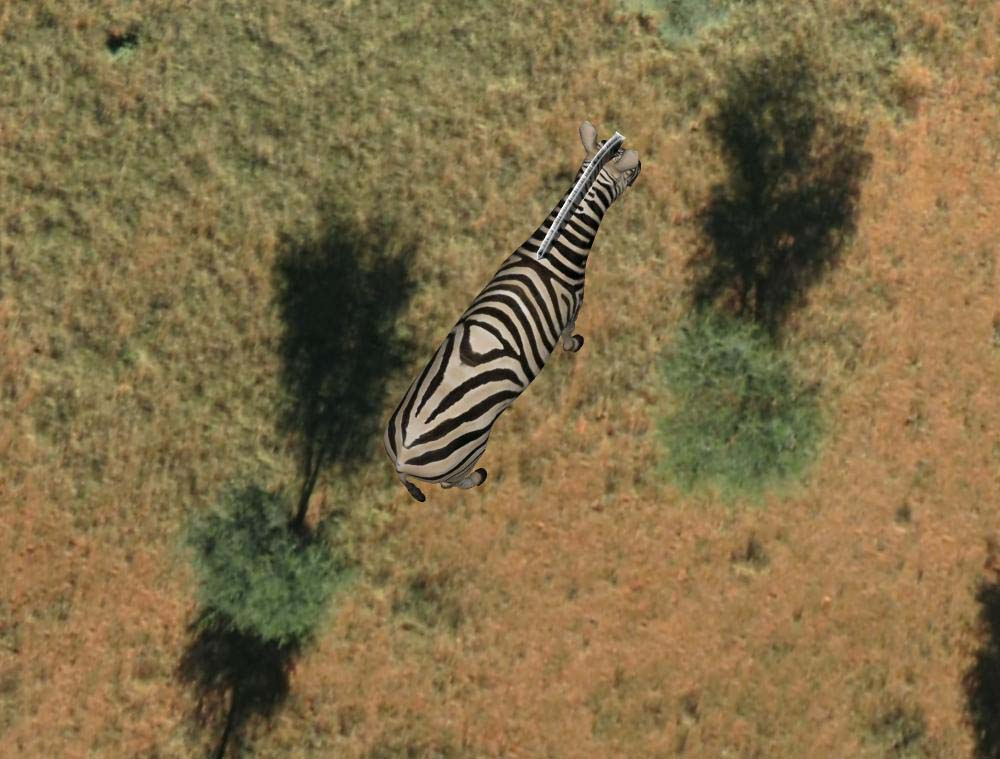zebra: (380, 116, 647, 508)
